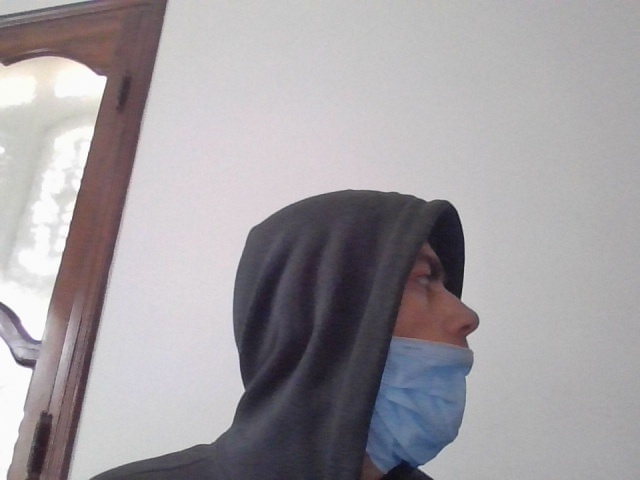mask_weared_incorrect: (358, 226, 486, 469)
